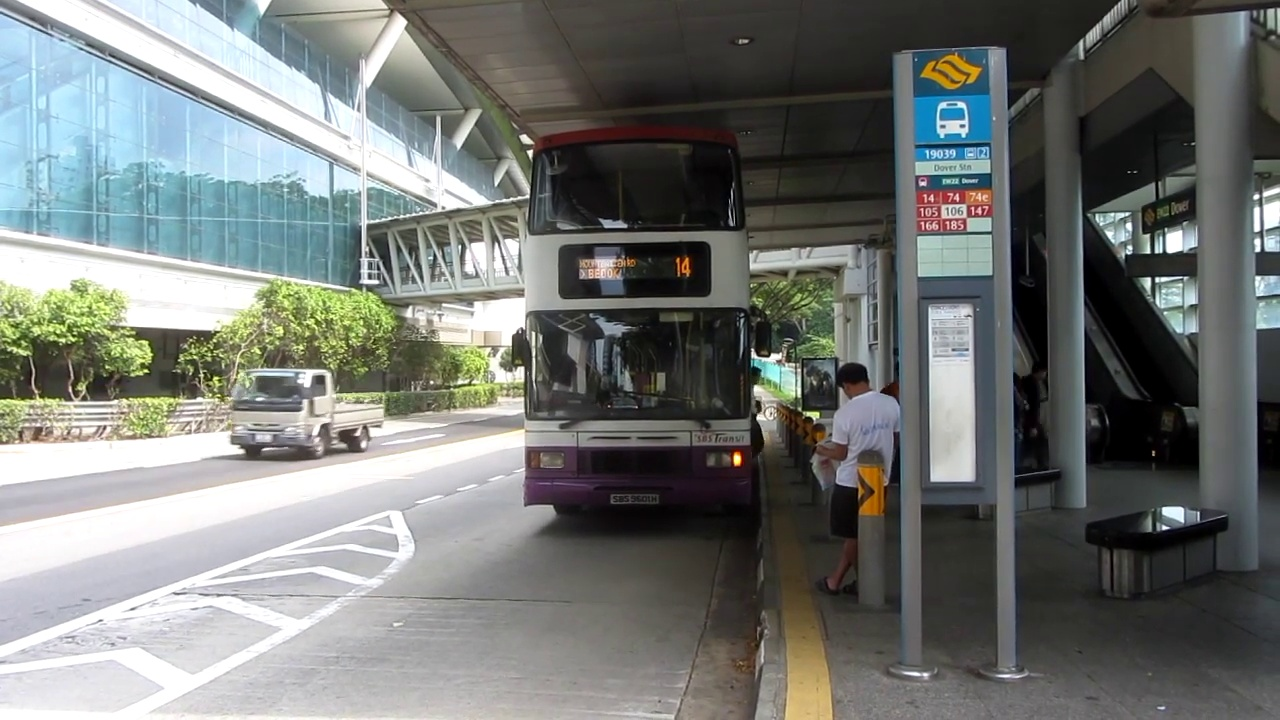bus panel: (573, 253, 697, 283)
